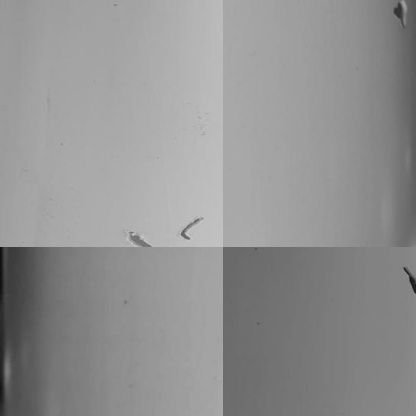fengxi: (177, 210, 209, 246), (396, 261, 416, 297)
sunshang: (126, 228, 154, 250), (388, 1, 410, 26)
